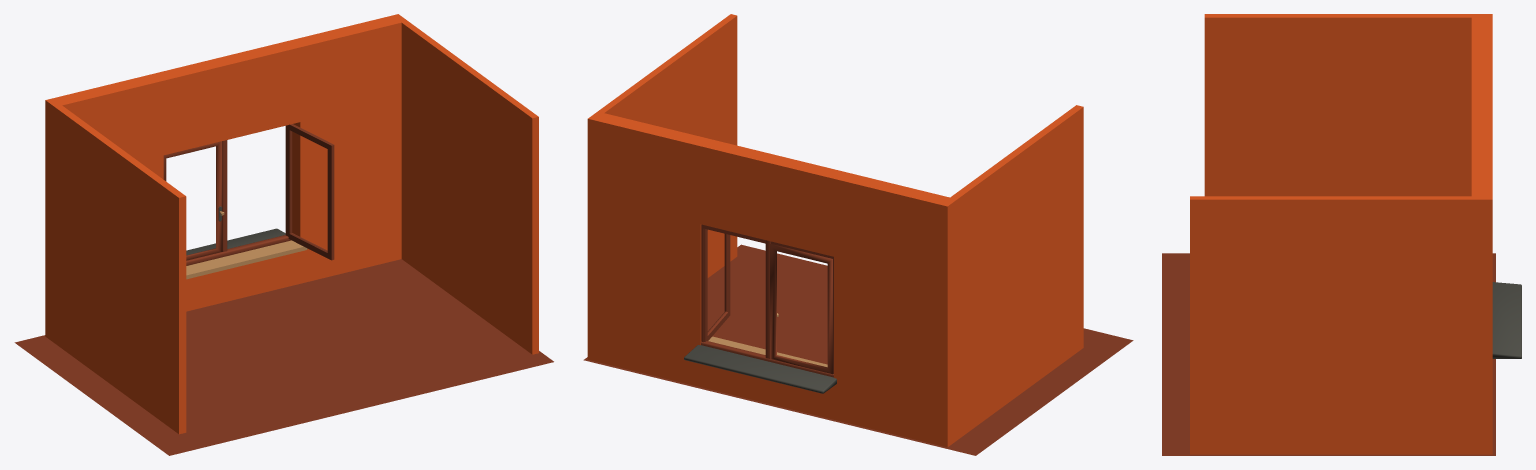
File: okno.fbx
3 renders of one model, left to right at view 1: azimuth 30°, elevation 25°; view 2: azimuth 150°, elevation 25°; view 3: azimuth 270°, elevation 25°, orthographic. The views are drawn at different scales.
Visible parts, largest first — view 1: Cube.001, Plane, Cube.004, Cube.002, Cube.006, Cube.007, Cube.008, Cube.005; view 2: Cube.001, Plane, Cube.008, Cube.006, Cube.004, Cube.003, Cube.007, Cube.005; view 3: Cube.001, Plane, Cube.008.
Part boxes in pixels (left/top/right/bottom): Cube.001: left=45, top=14, right=538, bottom=434; Plane: left=14, top=259, right=553, bottom=455; Cube.004: left=285, top=124, right=334, bottom=260; Cube.002: left=186, top=240, right=307, bottom=279; Cube.006: left=163, top=141, right=222, bottom=260; Cube.007: left=186, top=235, right=291, bottom=265; Cube.008: left=186, top=228, right=285, bottom=255; Cube.005: left=222, top=140, right=227, bottom=251; Cube.001: left=587, top=14, right=1083, bottom=447; Plane: left=583, top=244, right=1133, bottom=455; Cube.008: left=684, top=345, right=836, bottom=393; Cube.006: left=770, top=244, right=832, bottom=374; Cube.004: left=704, top=228, right=730, bottom=341; Cube.003: left=701, top=224, right=833, bottom=373; Cube.007: left=701, top=341, right=833, bottom=377; Cube.005: left=765, top=240, right=770, bottom=358; Cube.001: left=1190, top=14, right=1492, bottom=454; Plane: left=1162, top=253, right=1495, bottom=455; Cube.008: left=1492, top=282, right=1521, bottom=358.
Size of the model in its own units: 883 by 519 by 663.
